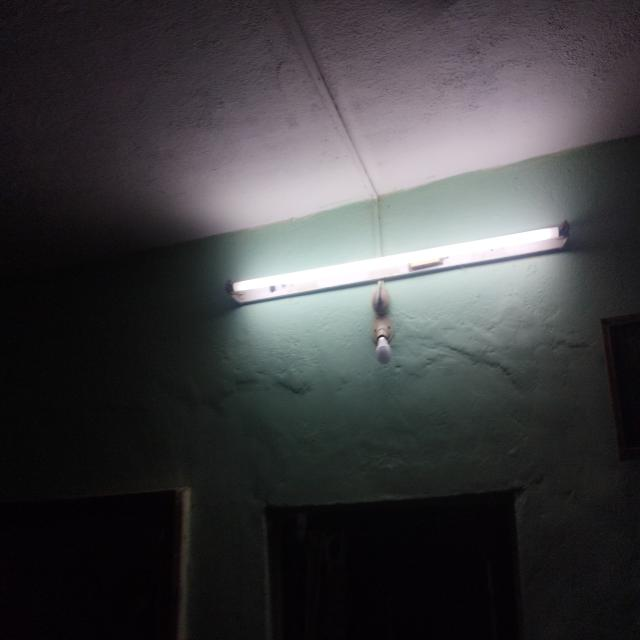tubelight_on: (220, 219, 573, 312)
